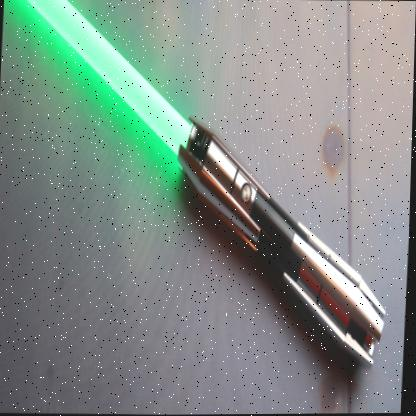lightsaber: (0, 0, 402, 375)
